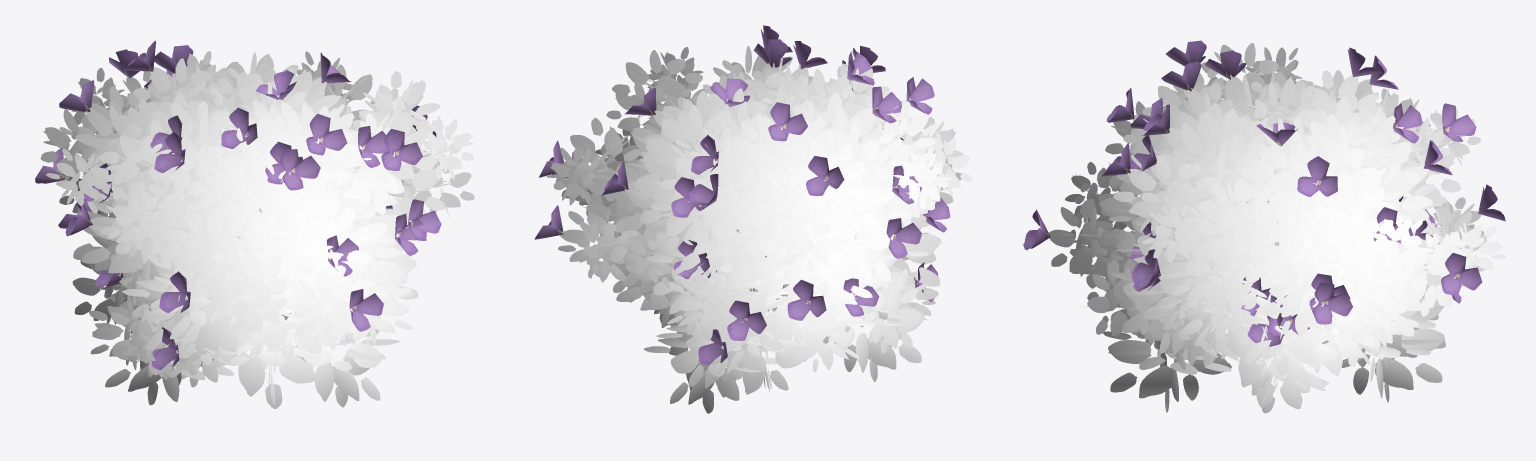
File: Bush_Common_Flowers.glb
3 views of the same model, side by side, from view 1: azimuth 30°, elevation 25°; view 2: azimuth 150°, elevation 25°; view 3: azimuth 270°, elevation 25° (orthographic). The views are drawn at different scales.
Parts seen in each view (by area): view 1: Bush_Common_Flowers; view 2: Bush_Common_Flowers; view 3: Bush_Common_Flowers.
Boxes of the visible parts, <box> form: Bush_Common_Flowers: <box>35,40,474,408</box>; Bush_Common_Flowers: <box>534,25,972,413</box>; Bush_Common_Flowers: <box>1023,40,1505,413</box>.
Size of what is drawn, in the model's own units: 1.91 by 1.58 by 1.97.
Materials: 2 (2 with a texture image).
